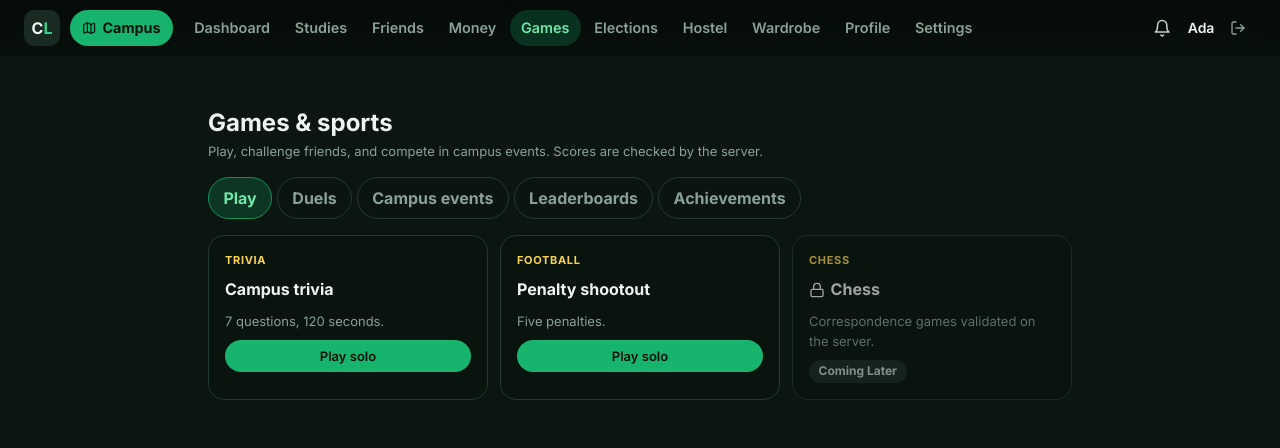
Test case: games hub › plays trivia: start → answer → server result
Click the button "Play solo" below "Campus trivia" at [348, 356], box [225, 340, 471, 372]
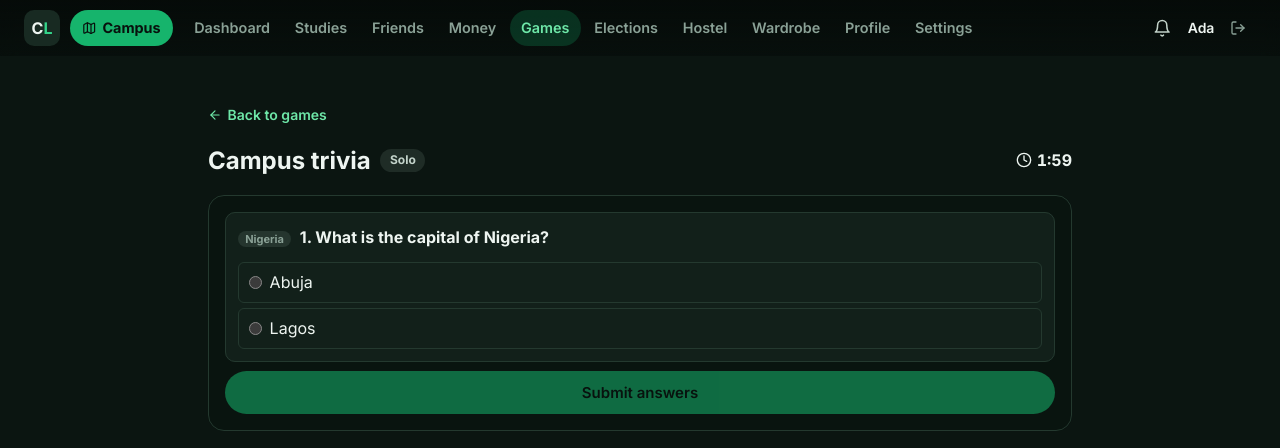
Expected: the text "What is the capital of Nigeria?" is shown, [315, 227, 549, 247]
Expected: the element showing "1:59" is shown, [1016, 148, 1072, 173]
Click the radio button labelled "Abuja" at [255, 282], box [249, 276, 262, 289]
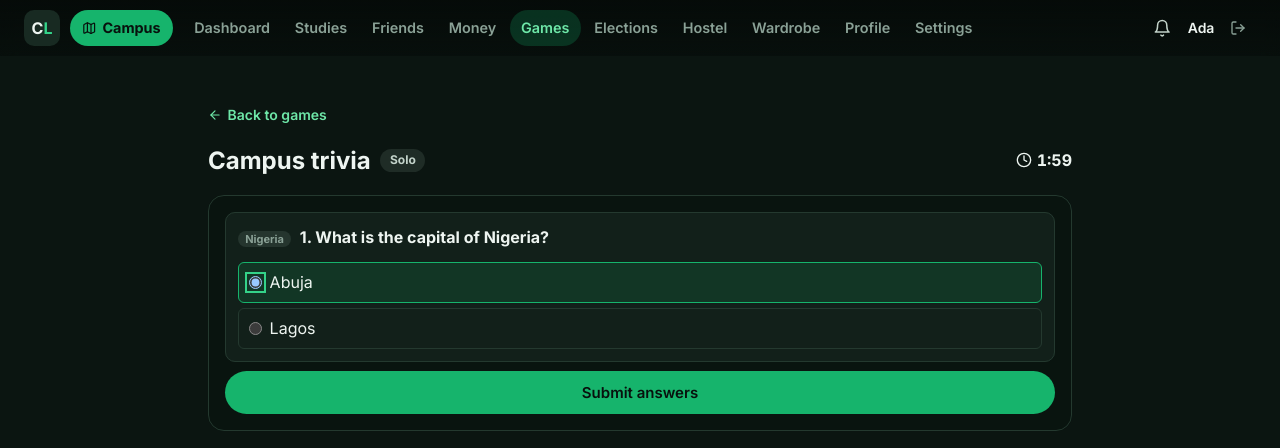
Click the button "Submit answers" at [640, 392], box [225, 371, 1055, 414]
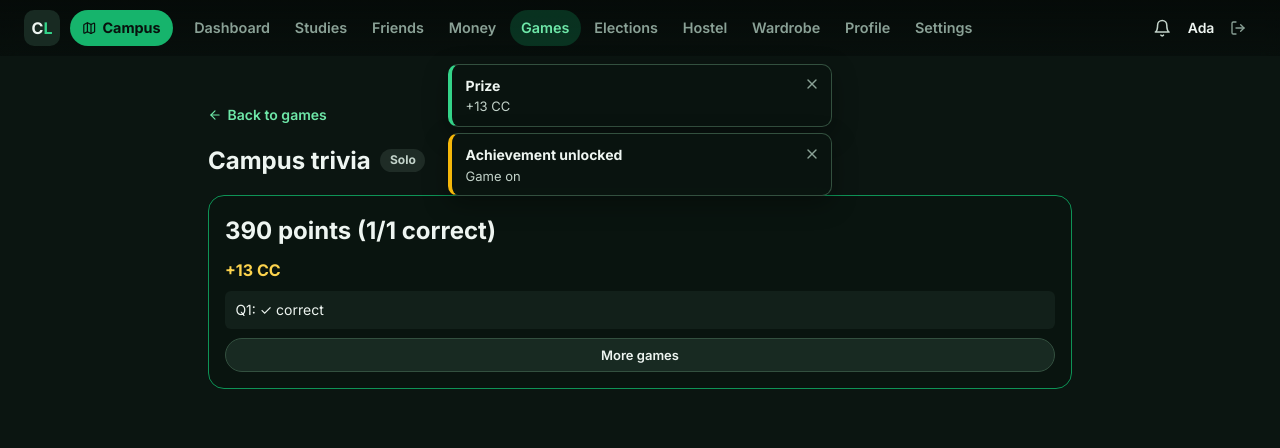
Expected: the text "390 points (1/1 correct)" is shown, [225, 216, 496, 245]
Expected: the text "+13 CC" below "390 points (1/1 correct)" is shown, [225, 260, 281, 280]
